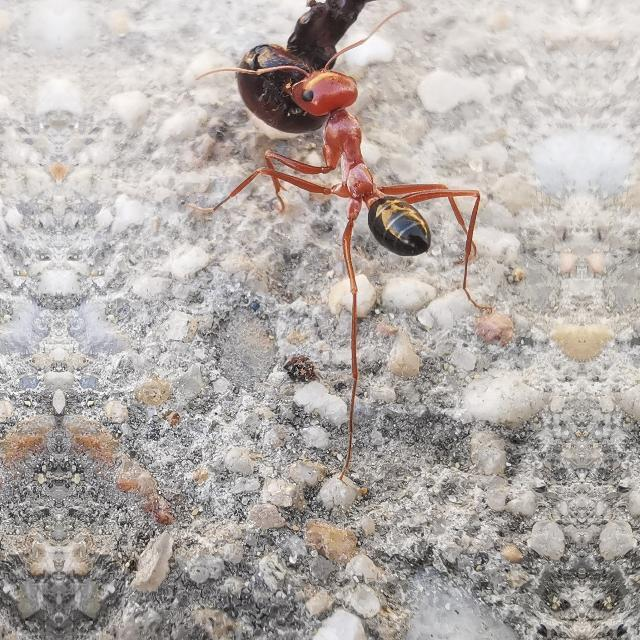Cataglyphis: (212, 1, 466, 292)
